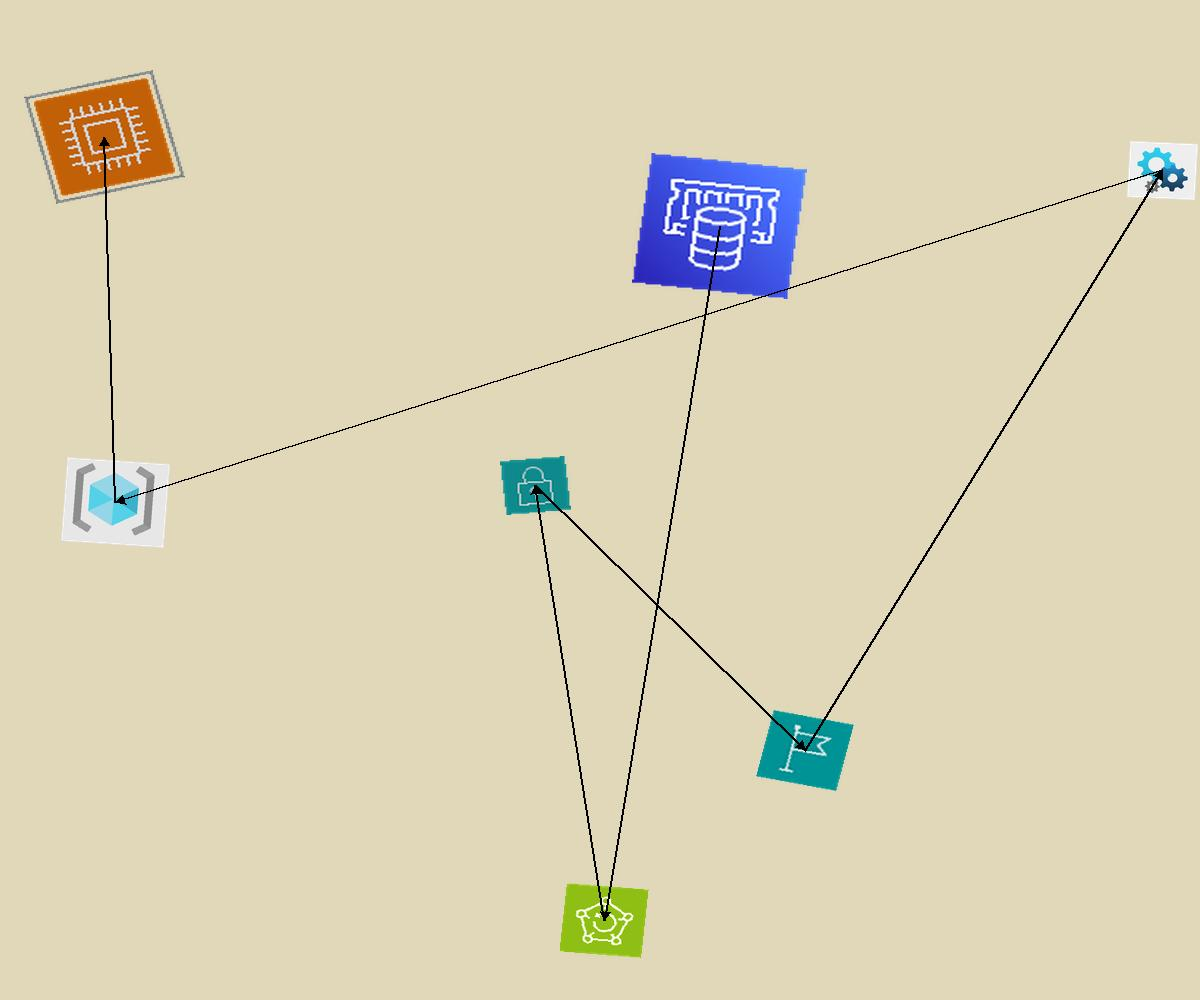AWS-Backup: (559, 883, 649, 958)
AWS-Category_Compute: (24, 70, 185, 204)
AWS-ElastiCache: (632, 153, 807, 299)
AWS-Private-subnet: (500, 456, 571, 515)
AWS-Region: (756, 710, 854, 791)
Azure_api: (1127, 141, 1198, 200)
Azure_resource_group: (61, 457, 170, 548)
